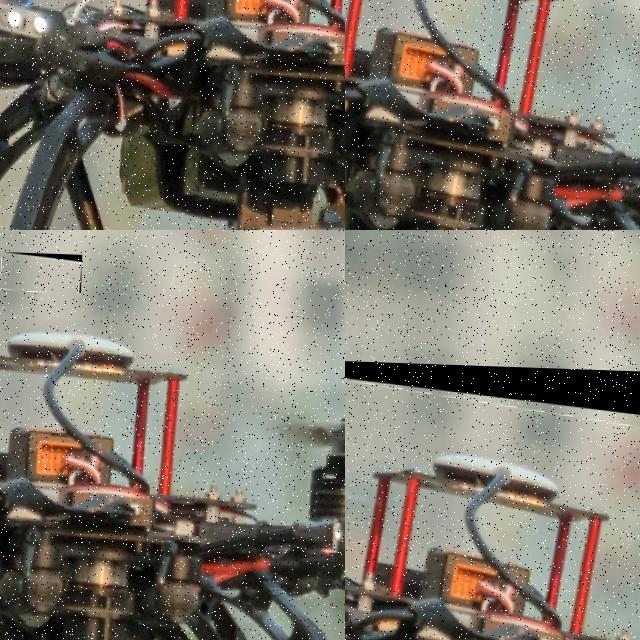0: (0, 252, 81, 293)
drone: (345, 354, 640, 640), (345, 0, 640, 230)
